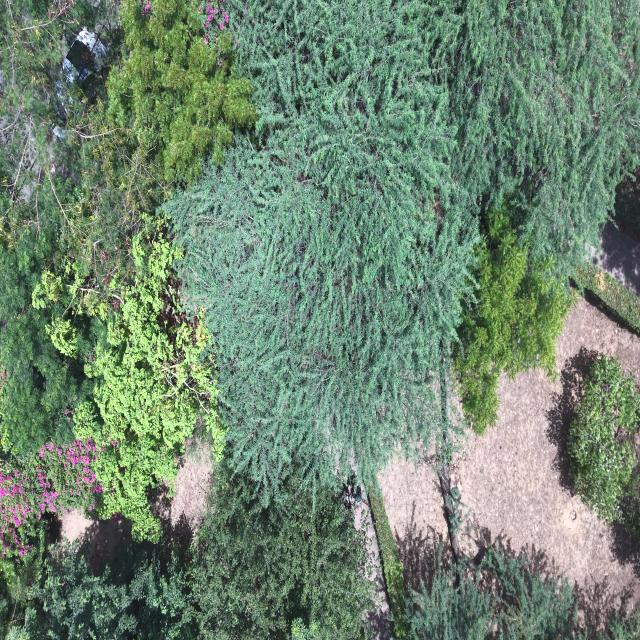DRY_AREA: (452, 299, 639, 623), (352, 495, 391, 639), (352, 496, 391, 639), (158, 442, 211, 538), (60, 510, 130, 571), (166, 443, 212, 530), (590, 223, 639, 295)
VEGETATION_TREE: (0, 0, 639, 639), (164, 0, 639, 501), (173, 3, 637, 485), (166, 0, 476, 501), (0, 3, 214, 573), (0, 3, 220, 536), (166, 134, 471, 501), (432, 1, 639, 432), (0, 2, 138, 455), (0, 477, 371, 639), (0, 478, 371, 639), (427, 0, 639, 277), (32, 232, 222, 539), (0, 0, 171, 314), (0, 494, 370, 639), (1, 2, 170, 312), (73, 234, 222, 539), (0, 0, 146, 302), (191, 464, 371, 639), (107, 0, 255, 182), (453, 204, 570, 434), (406, 546, 639, 639), (0, 230, 90, 455), (11, 544, 197, 639), (407, 547, 576, 639), (567, 355, 639, 533), (0, 439, 101, 559), (0, 513, 56, 639), (0, 516, 51, 639), (367, 479, 406, 638), (407, 568, 494, 639), (573, 262, 639, 333), (575, 261, 639, 333), (613, 168, 639, 242), (620, 470, 639, 536), (605, 608, 639, 639), (291, 619, 319, 639)
